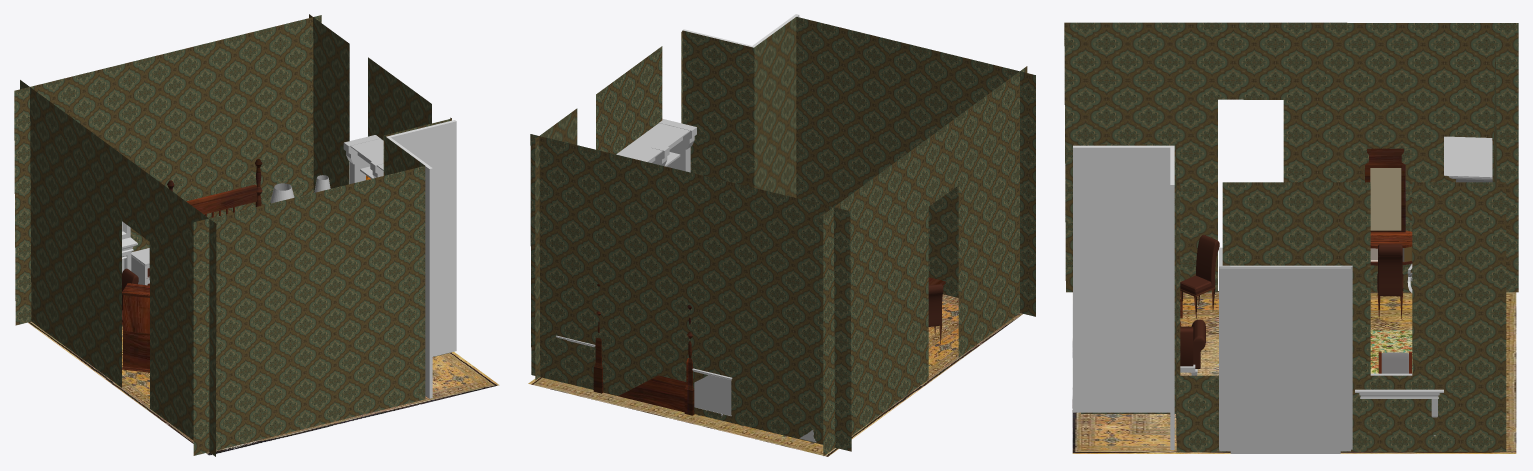
The model's file is maid_room 3.fbx.
The picture shows the model from 3 angles, left to right: view 1: azimuth 30°, elevation 25°; view 2: azimuth 150°, elevation 25°; view 3: azimuth 270°, elevation 25°; orthographic projection. The views are drawn at different scales.
Visible parts, largest first — view 1: wallpp.001, secret_wall, floor, makeupdesk_side_shelf, bookshelf, bed_shelf, night_stand, wardrobe; view 2: wallpp.001, floor, bed_shelf, bookshelf, night_stand, chair_back.001; view 3: wallpp.001, secret_wall, bookshelf, floor, wardrobe, mirror, chair1_back, makeup_desk_back, sheet, desk.001, chair_back.001, side_cabinet_cover.001 (+4 smaller).
Part boxes in pixels (x1=…): wallpp.001: x1=14, y1=14, x2=451, y2=456; secret_wall: x1=386, y1=120, x2=456, y2=398; floor: x1=28, y1=321, x2=499, y2=455; makeupdesk_side_shelf: x1=122, y1=283, x2=149, y2=372; bookshelf: x1=343, y1=135, x2=383, y2=183; bed_shelf: x1=167, y1=159, x2=262, y2=217; night_stand: x1=131, y1=248, x2=149, y2=285; wardrobe: x1=122, y1=221, x2=137, y2=272; wallpp.001: x1=530, y1=17, x2=1035, y2=455; floor: x1=528, y1=294, x2=1022, y2=456; bed_shelf: x1=593, y1=284, x2=694, y2=415; bookshelf: x1=616, y1=118, x2=696, y2=172; night_stand: x1=556, y1=335, x2=732, y2=415; chair_back.001: x1=928, y1=284, x2=943, y2=326; wallpp.001: x1=1064, y1=22, x2=1518, y2=452; secret_wall: x1=1073, y1=145, x2=1174, y2=449; bookshelf: x1=1219, y1=247, x2=1352, y2=453; floor: x1=1072, y1=291, x2=1516, y2=453; wardrobe: x1=1444, y1=136, x2=1492, y2=182; mirror: x1=1370, y1=168, x2=1401, y2=230; chair1_back: x1=1378, y1=244, x2=1402, y2=296; makeup_desk_back: x1=1365, y1=148, x2=1405, y2=232; sheet: x1=1370, y1=330, x2=1412, y2=373; desk.001: x1=1355, y1=373, x2=1443, y2=436; chair_back.001: x1=1196, y1=235, x2=1219, y2=288; side_cabinet_cover.001: x1=1370, y1=230, x2=1412, y2=265.
Bounding box in the file's own units: 387 × 284 × 428.
